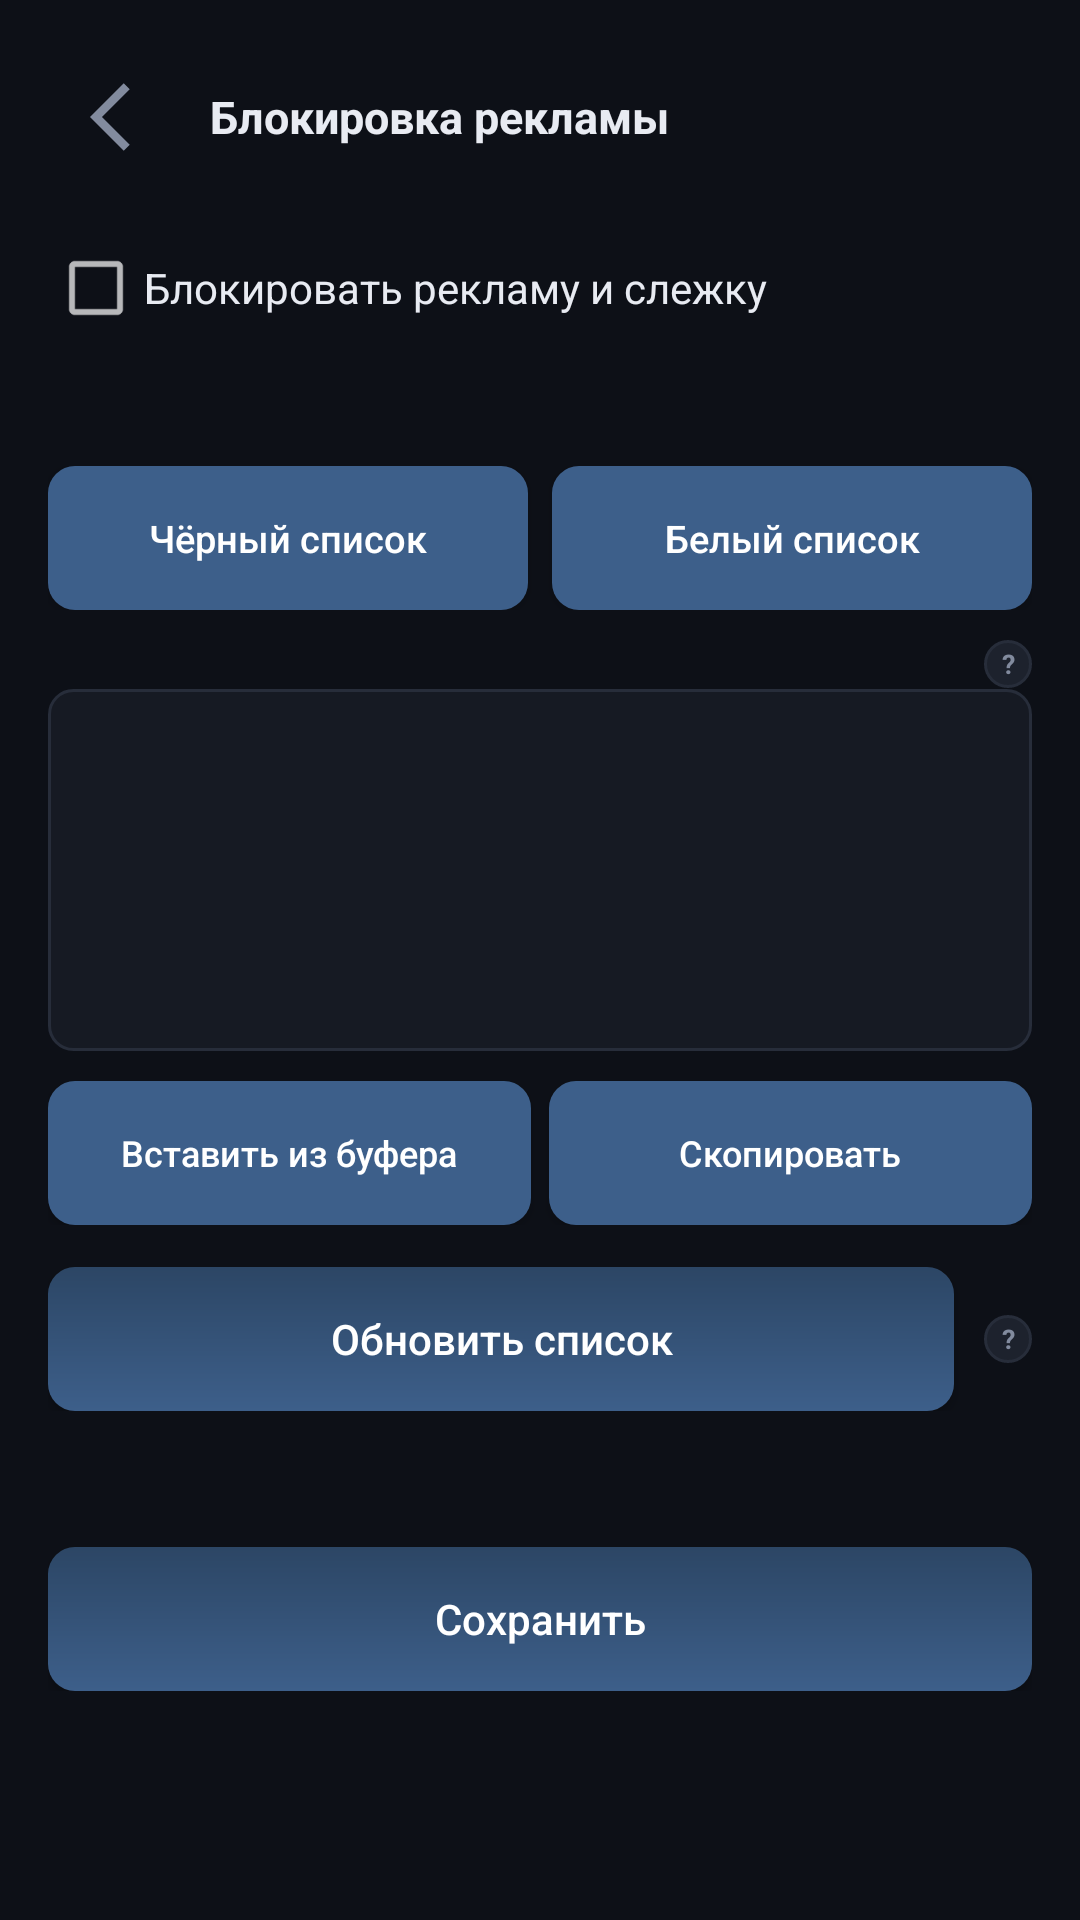

Icons on this 1080x1920 Android screen, each with the point to tap as [x,y]:
Назад: [110,117]
